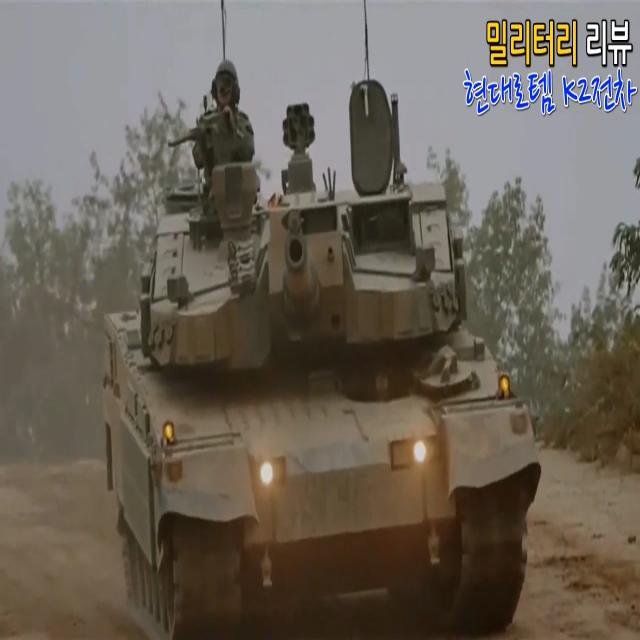korea tank: (108, 56, 542, 640)
